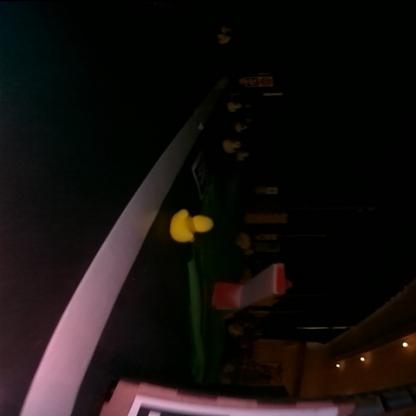Duckie: (172, 211, 212, 241), (224, 140, 240, 152), (220, 34, 232, 44), (230, 103, 244, 109), (242, 154, 250, 160), (240, 126, 247, 132)
Stop sign: (260, 76, 274, 86)
